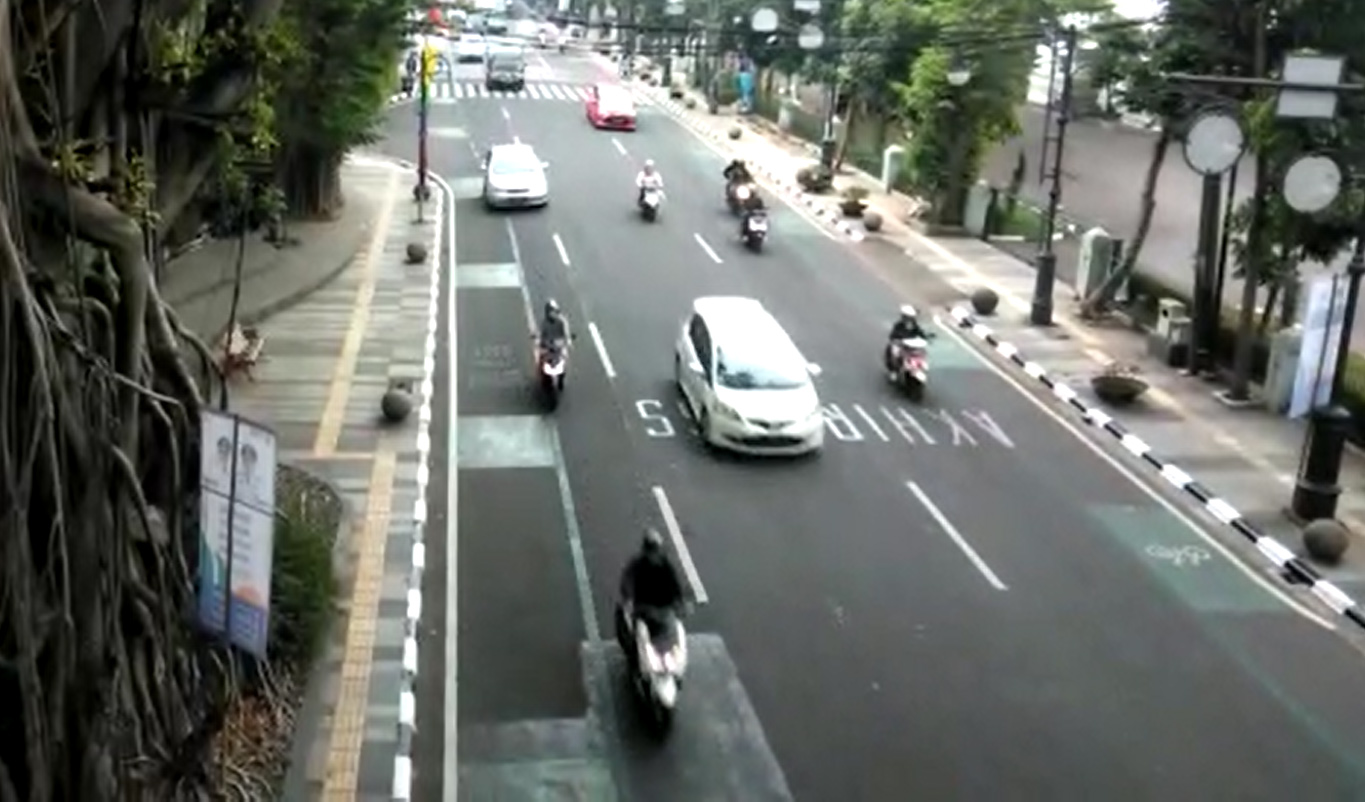mobil: (663, 285, 835, 471), (471, 135, 559, 218)
motor: (601, 518, 711, 752), (876, 294, 946, 414), (525, 295, 586, 414), (627, 150, 678, 232), (719, 154, 768, 225), (736, 185, 780, 260)
